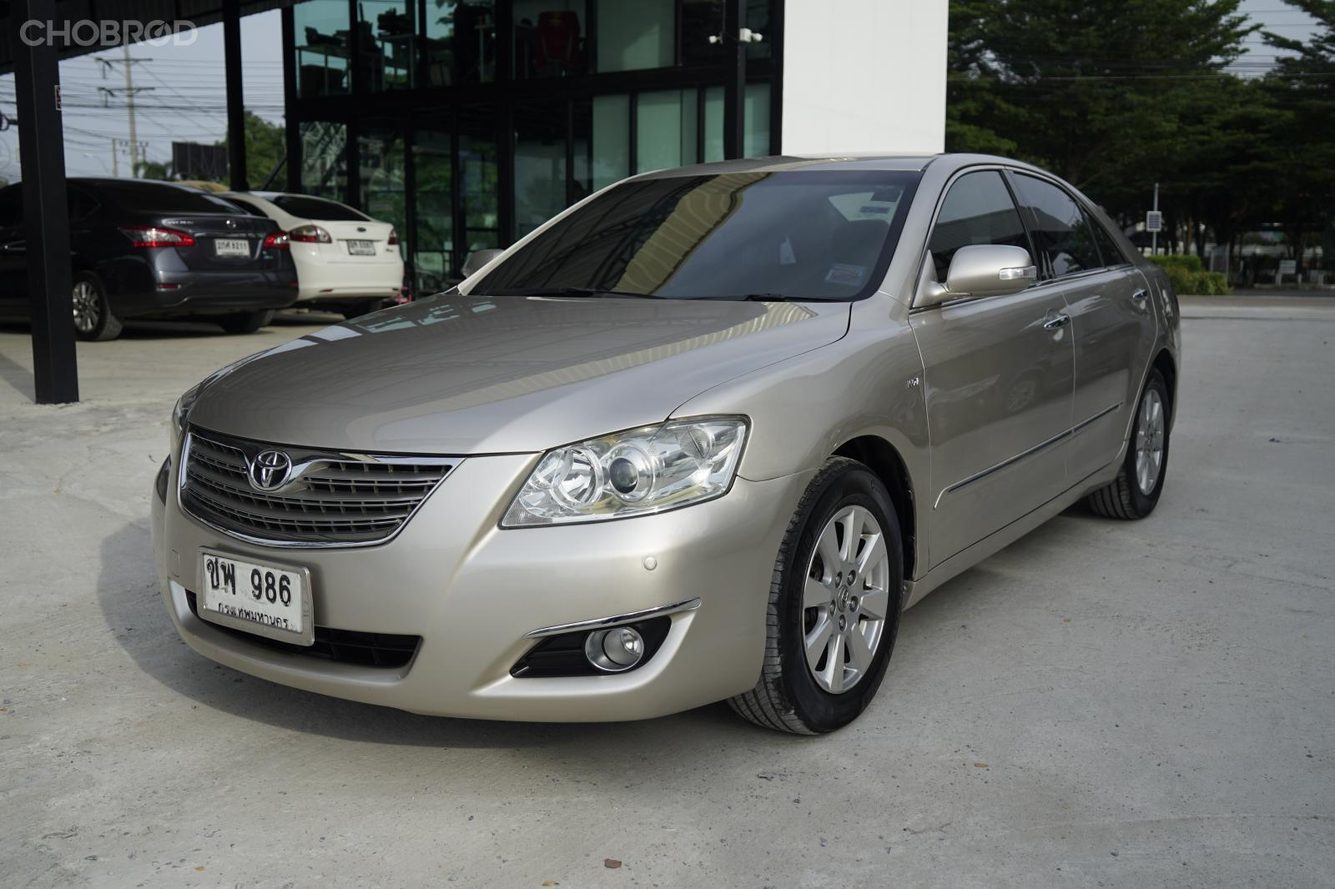license-plate: (184, 540, 326, 653)
